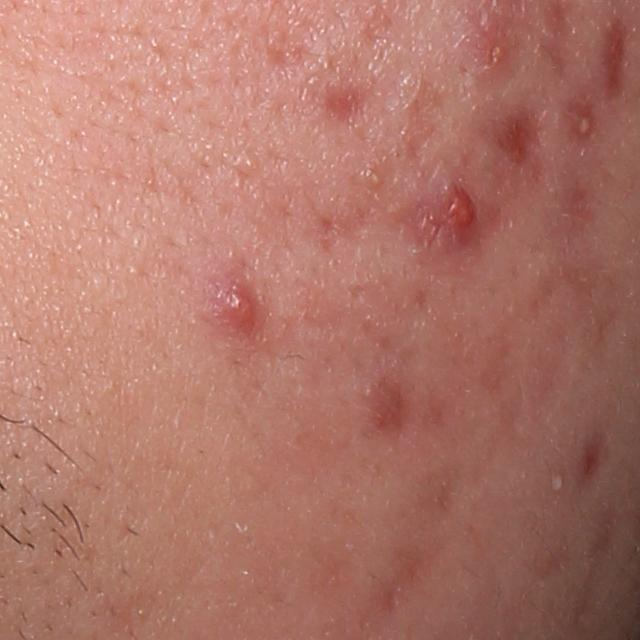atrophic_scar: (324, 83, 392, 133), (498, 110, 544, 177)
papule: (195, 263, 266, 340), (412, 183, 478, 254), (355, 376, 409, 437), (467, 20, 518, 75)
pustule: (565, 99, 598, 144)
